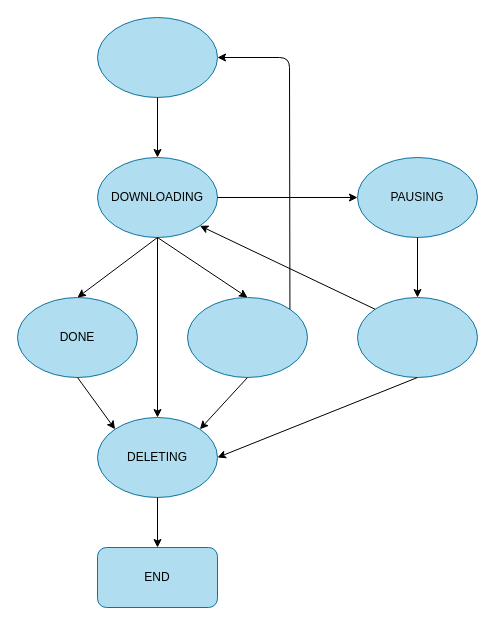
The diagram is 495 pixels wide and 625 high, and some of its shapes have lost their labels. Here are the shapes that lost their labels. From the top down, the box of each, then its label:
(96, 16, 218, 98): CREATED
(186, 296, 308, 378): ERROR
(356, 296, 478, 378): PAUSED
